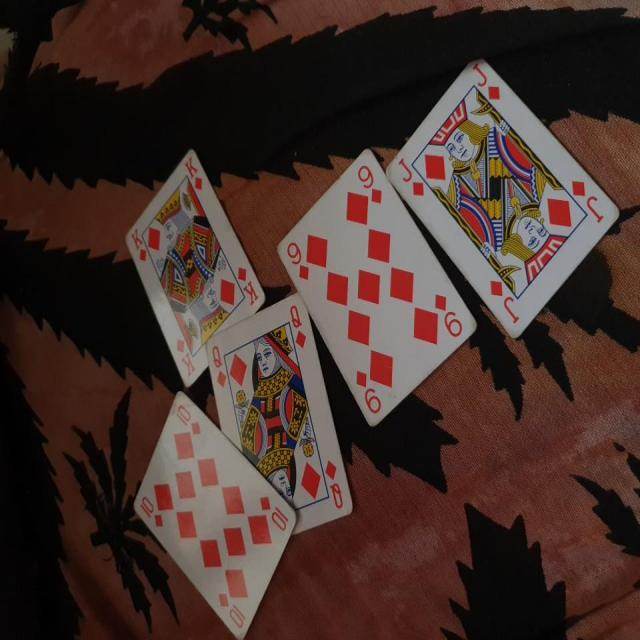10 Diamonds: (132, 389, 298, 640)
9 Diamonds: (275, 148, 479, 428)
J Diamonds: (384, 58, 621, 340)
K Diamonds: (121, 148, 267, 390)
Q Diamonds: (202, 290, 354, 533)
